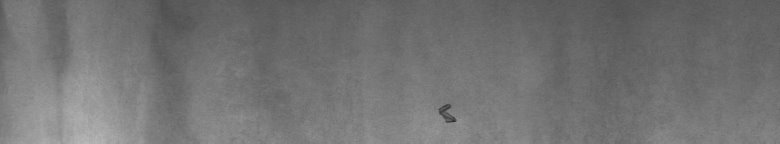fi: (434, 96, 461, 129)
